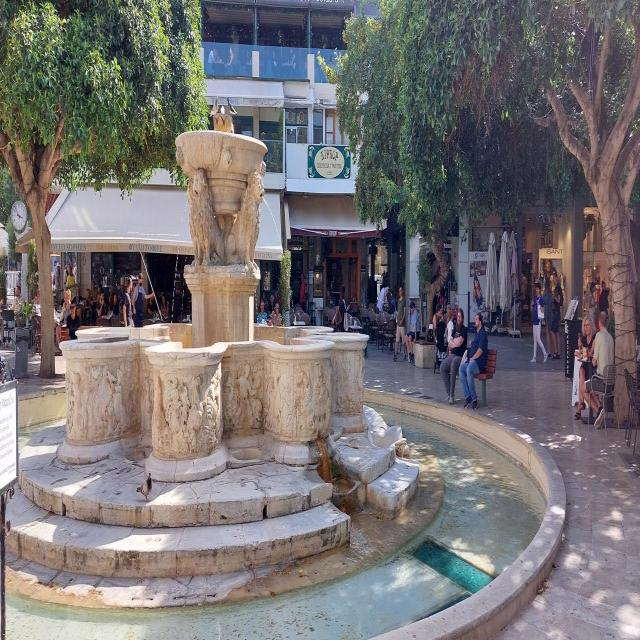Liontaria: (62, 123, 370, 485)
